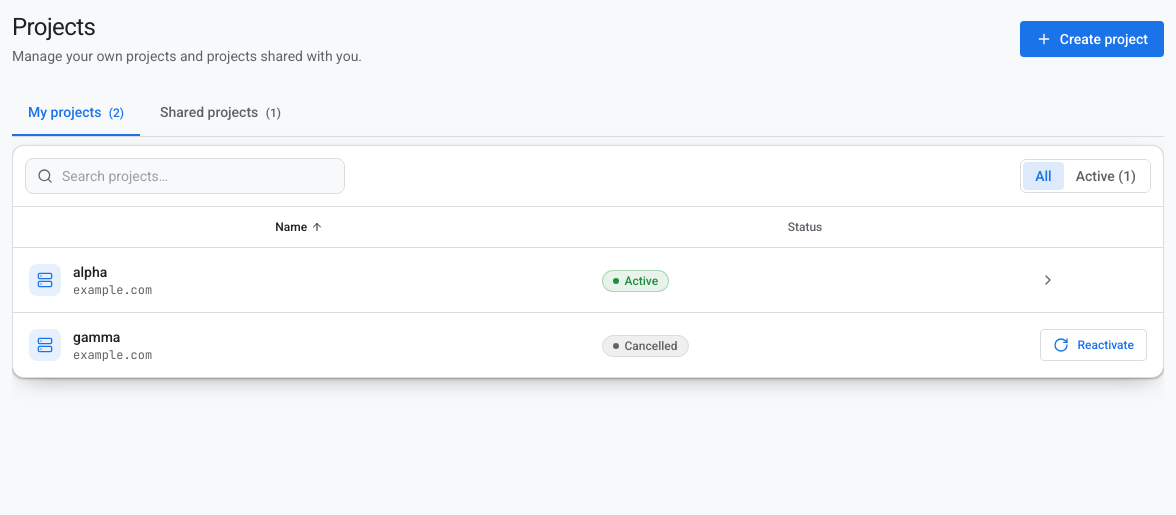
My and shared project categories › lists each project once in its own category and allows creating owned projects
expect the text "alpha" is shown: met, box x1=73 y1=264 x2=107 y2=280
expect the text "gamma" is shown: met, box x1=73 y1=329 x2=120 y2=345
Click the tab "Shared projects (1)".
click(220, 113)  # box x1=144 y1=90 x2=297 y2=136
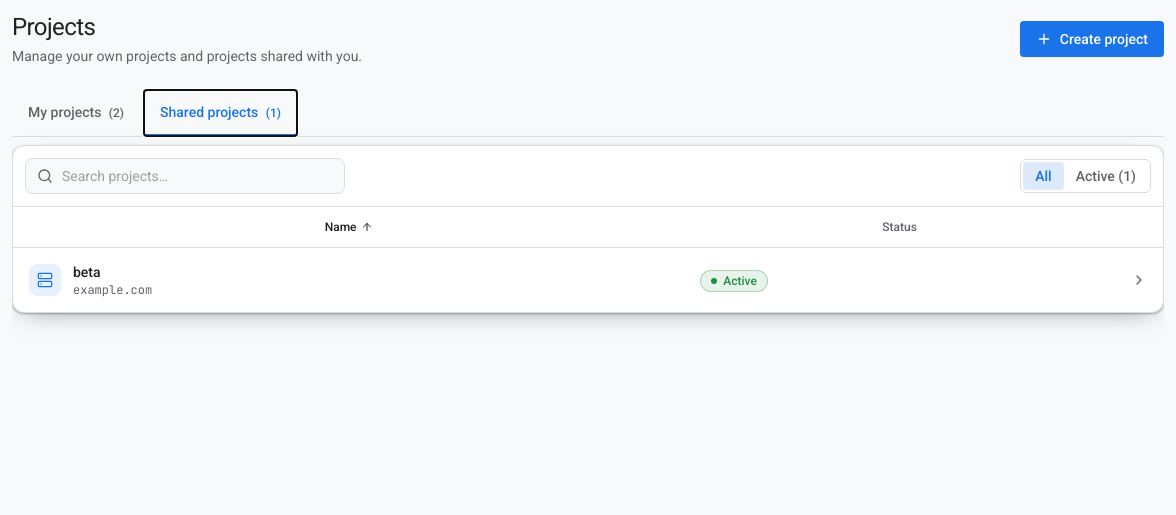
expect the text "beta" is shown: met, box x1=73 y1=264 x2=101 y2=280
expect the text "alpha" is gone: met
expect the text "gamma" is gone: met
Type "alpha" into the field with placeholder "Search projects…".
click(185, 176); type("alpha")  # box x1=25 y1=158 x2=345 y2=194
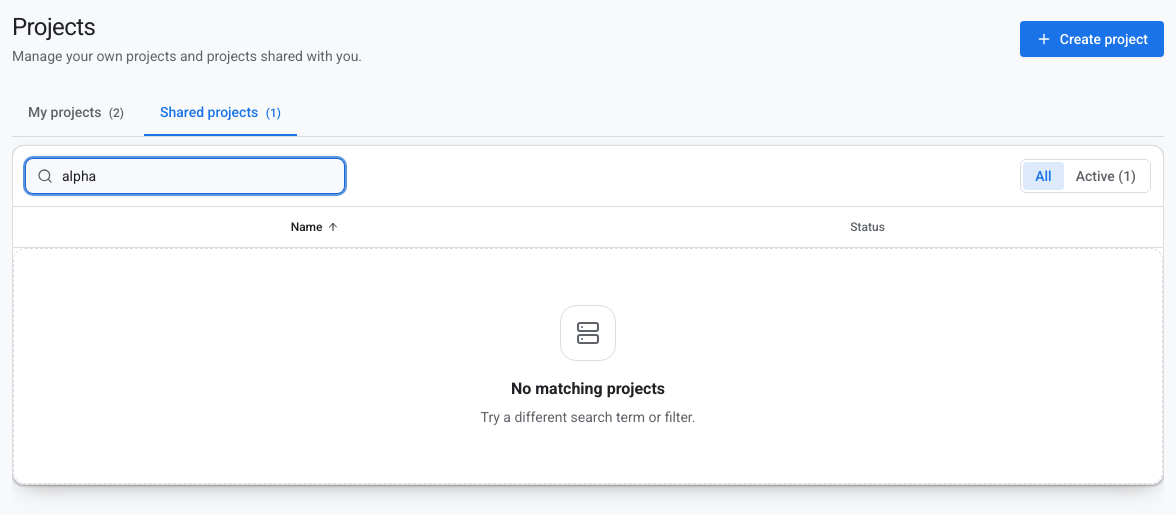
expect the heading "No matching projects" is shown: met, box x1=511 y1=377 x2=665 y2=401
